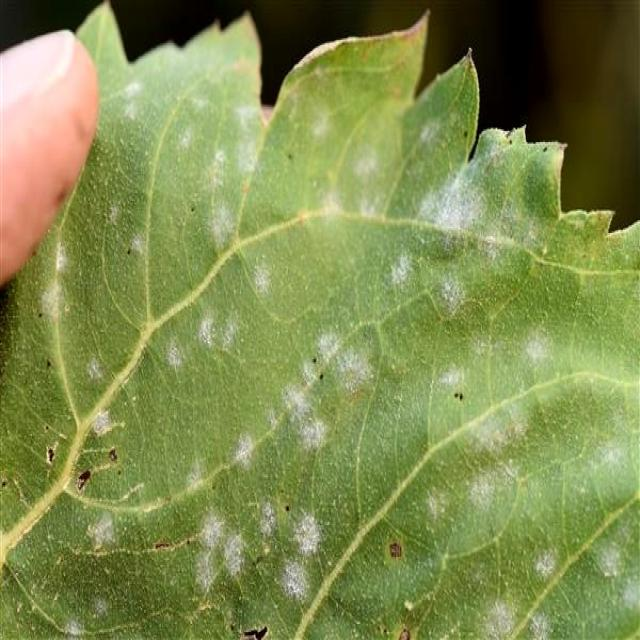Powdery Mildew: (1, 3, 637, 637)
